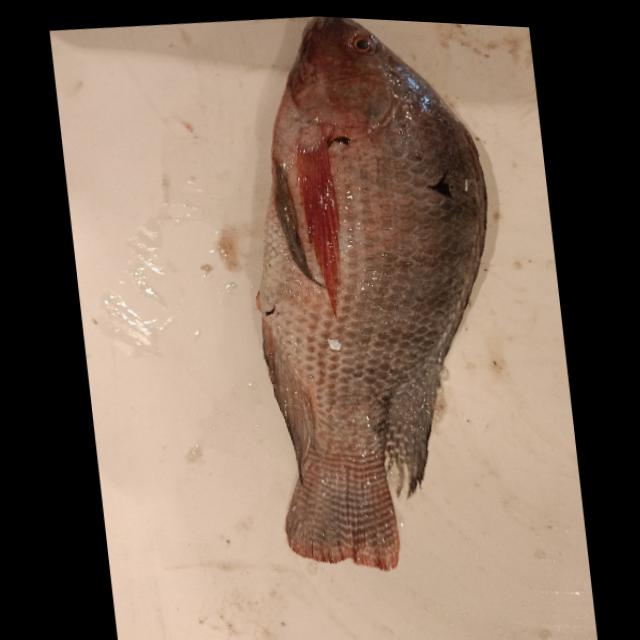Tilapia: (221, 11, 527, 591)
